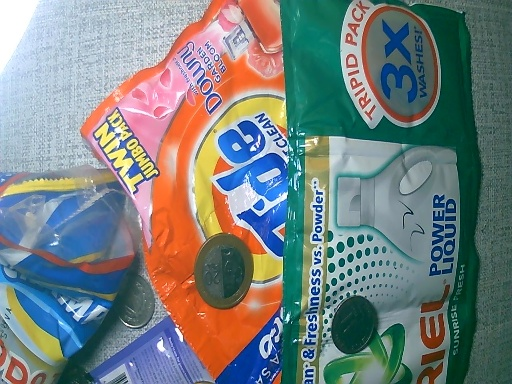metal: (193, 234, 254, 311), (109, 271, 154, 326), (331, 297, 377, 350)
plastic: (77, 1, 299, 384), (279, 1, 474, 384), (1, 166, 145, 384), (76, 330, 217, 384)
